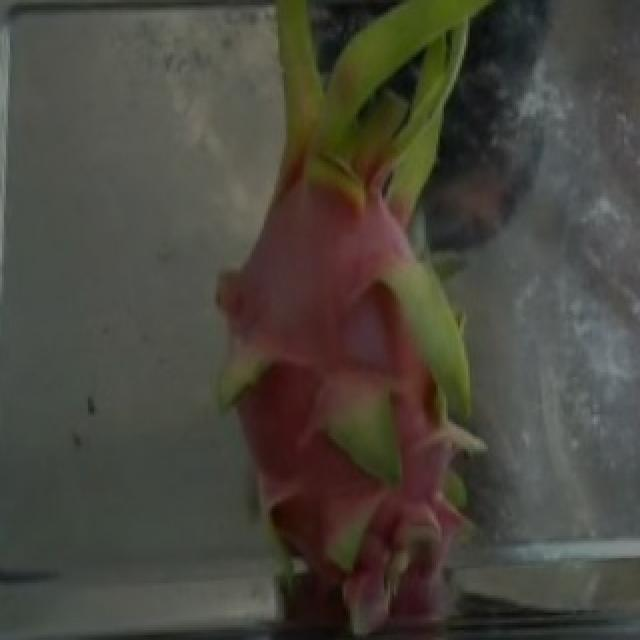fruit: (166, 208, 570, 635), (176, 0, 556, 382)
